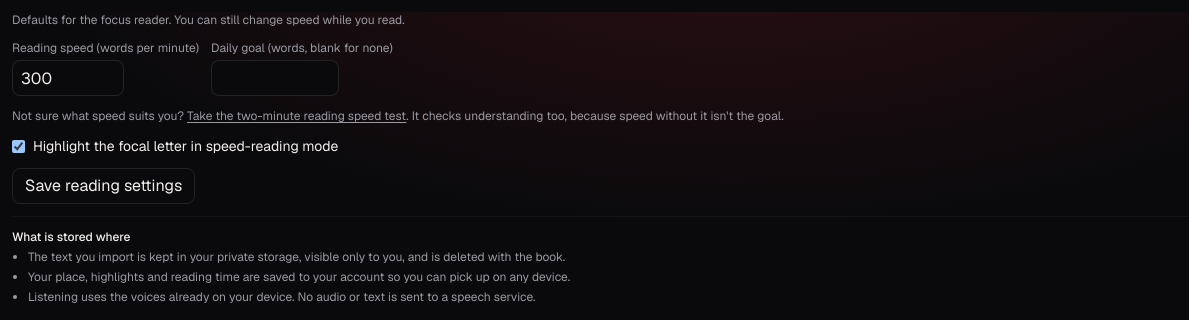
Test: ReaderSettings › shows the server's message when the save is refused
Click the button "Save reading settings".
click(104, 186)  # box [12,168,195,204]
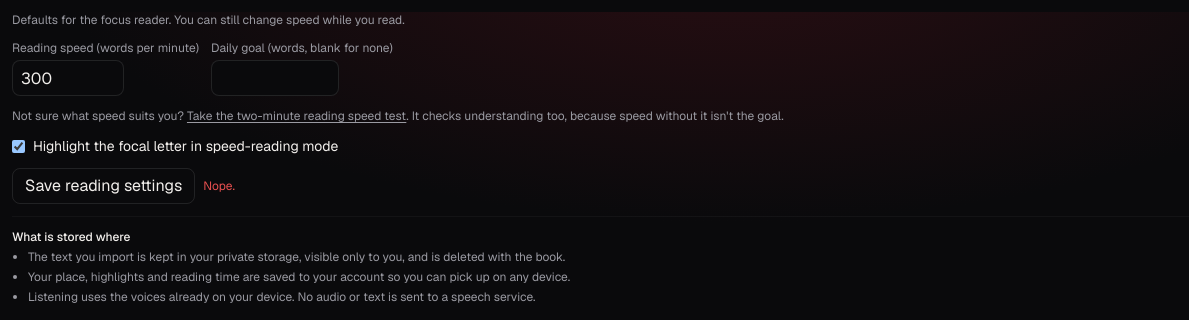
Check: the message reads "Nope.", box [203,178,235,194]
